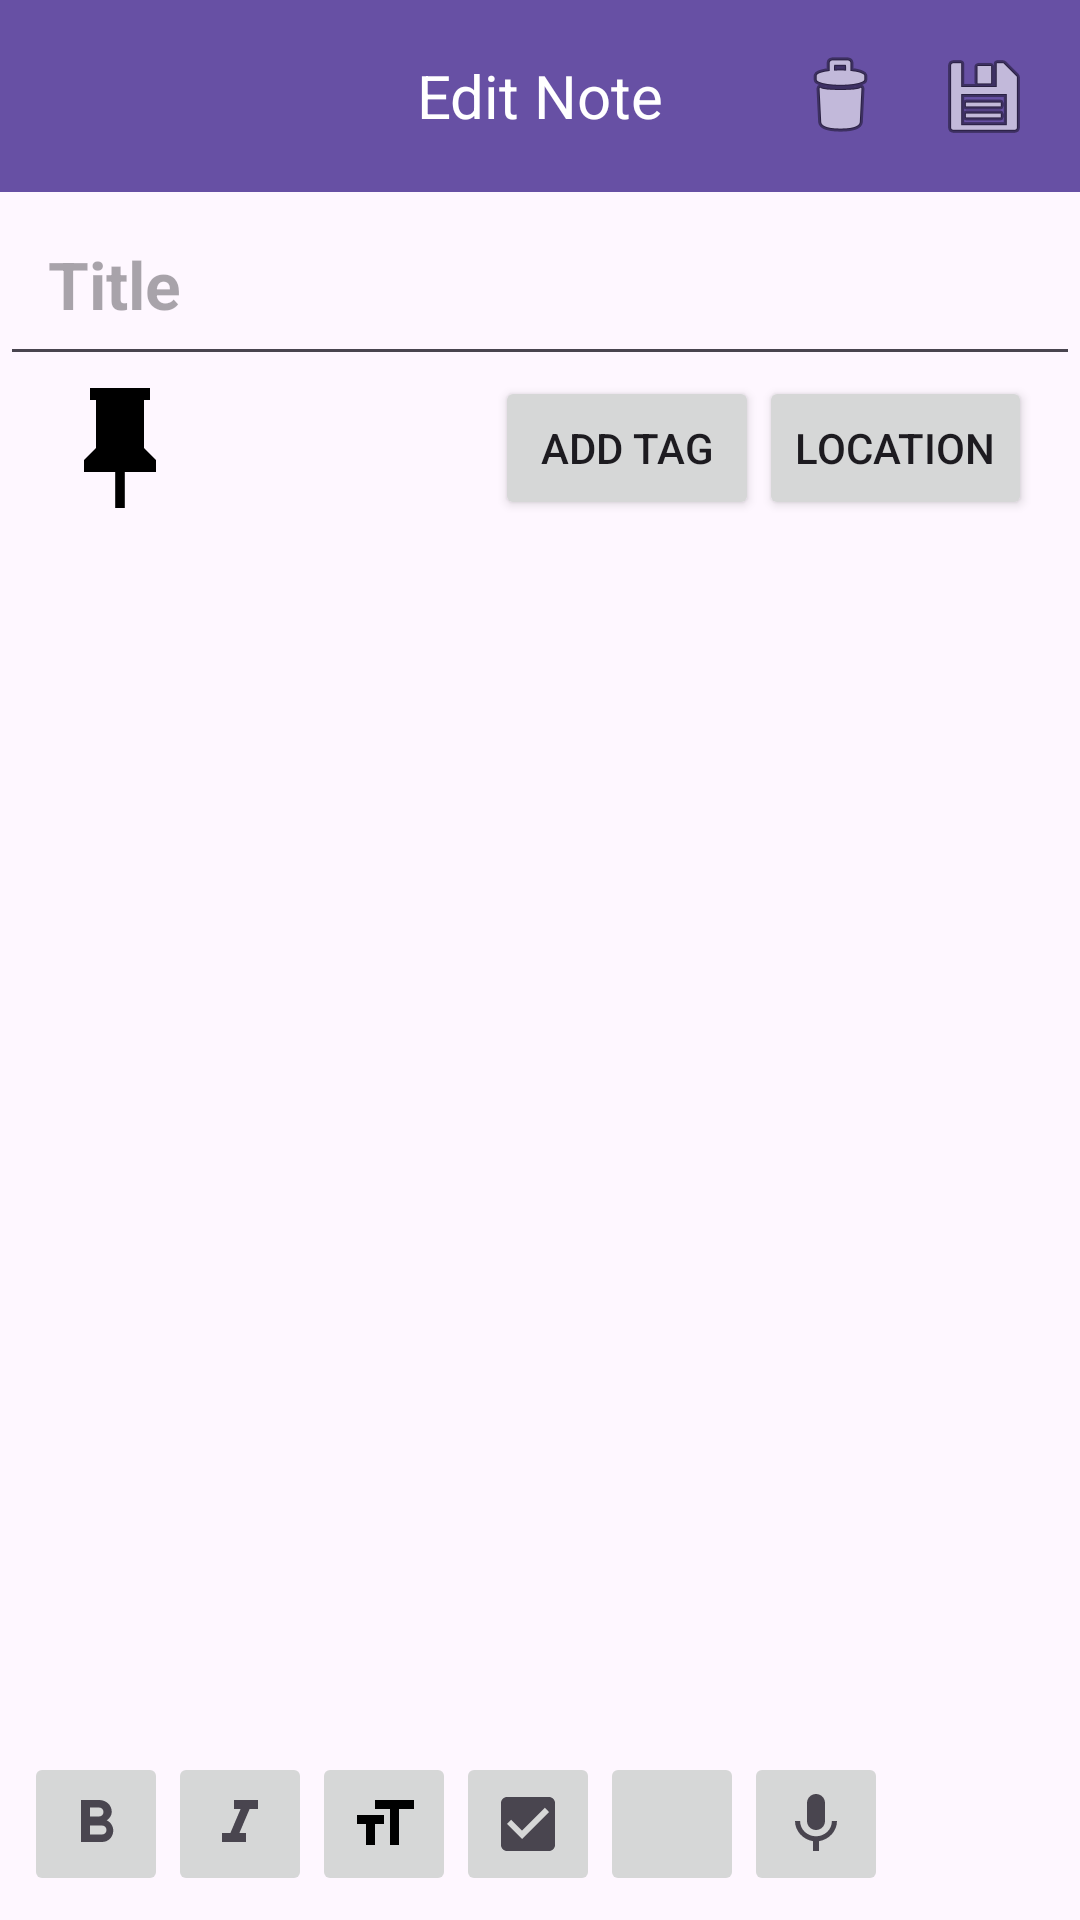

Named icons in this screenshot (1080px x 1920px) and their bounding boxes, bbox=(x1, y1, x2, y2):
Bold: bbox=(36, 1770, 156, 1878)
Checklist: bbox=(468, 1770, 588, 1878)
Delete: bbox=(814, 57, 867, 132)
Font Size: bbox=(324, 1770, 444, 1878)
Italic: bbox=(180, 1770, 300, 1878)
pin: bbox=(84, 388, 156, 508)
Save: bbox=(948, 60, 1020, 133)
Voice Memo: bbox=(756, 1770, 876, 1878)
